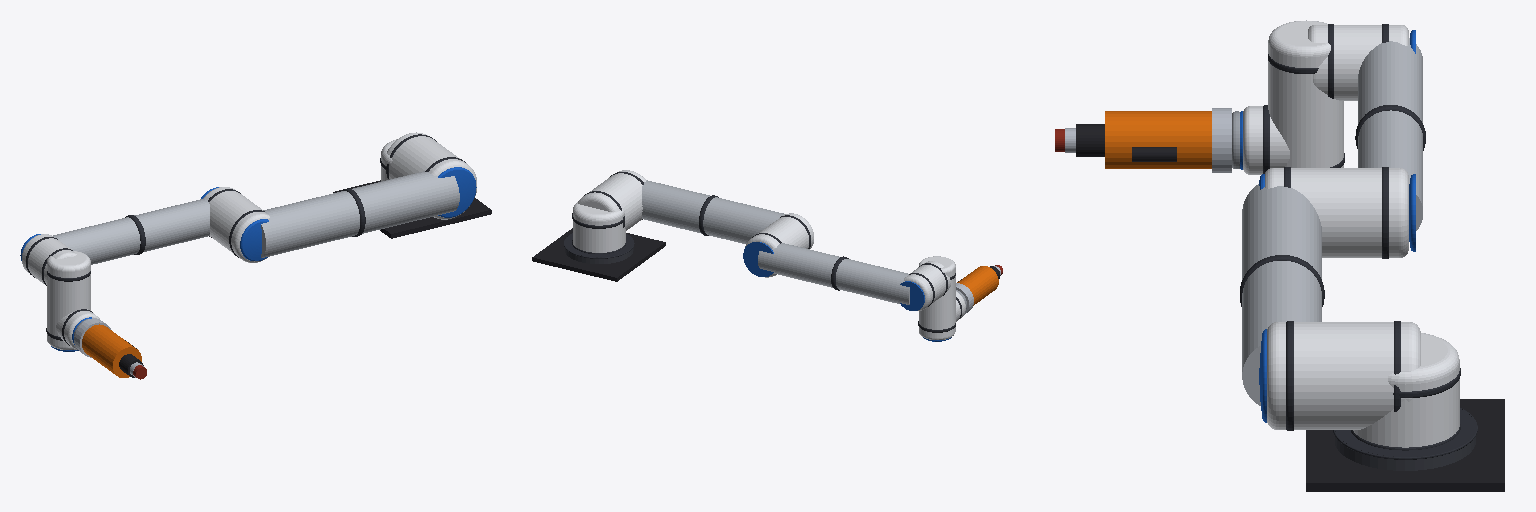
robot.urdf — sixaxis_ur5like:
<?xml version="1.0"?>
<robot name="sixaxis_ur5like">
  <material name="housing"><color rgba="0.86 0.87 0.89 1.0"/></material>
  <material name="tube"><color rgba="0.72 0.74 0.77 1.0"/></material>
  <material name="cap"><color rgba="0.16 0.42 0.78 1.0"/></material>
  <material name="ring"><color rgba="0.22 0.23 0.26 1.0"/></material>
  <material name="base"><color rgba="0.28 0.29 0.32 1.0"/></material>
  <material name="plate"><color rgba="0.18 0.18 0.2 1.0"/></material>
  <material name="flange"><color rgba="0.62 0.64 0.67 1.0"/></material>
  <material name="tcp"><color rgba="0.95 0.55 0.1 1.0"/></material>
  <link name="base_link">
    <inertial><mass value="1"/><inertia ixx="1" iyy="1" izz="1" ixy="0" ixz="0" iyz="0"/></inertial>
    <visual><origin xyz="0.0 0.0 0.005" rpy="0.0 0.0 0.0"/><geometry><box size="0.22 0.22 0.01"/></geometry><material name="plate"/></visual>
    <collision><origin xyz="0.0 0.0 0.005" rpy="0.0 0.0 0.0"/><geometry><box size="0.22 0.22 0.01"/></geometry></collision>
    <visual><origin xyz="0.0 0.0 0.0185" rpy="0.0 0.0 0.0"/><geometry><mesh filename="meshes/housing_L0170_R0780.obj" scale="1 1 1"/></geometry><material name="base"/></visual>
    <collision><origin xyz="0.0 0.0 0.0185" rpy="0.0 0.0 0.0"/><geometry><cylinder length="0.017" radius="0.078"/></geometry></collision>
    <visual><origin xyz="0.0 0.0 0.0255" rpy="0.0 0.0 0.0"/><geometry><mesh filename="meshes/ring_L0030_R0800.obj" scale="1 1 1"/></geometry><material name="ring"/></visual>
  </link>
  <link name="link1">
    <inertial><origin xyz="0.0 0.0 0.0445795" rpy="0.0 0.0 0.0"/><mass value="3.7"/><inertia ixx="0.005781042578308333" iyy="0.005781042578308333" izz="0.00666" ixy="0" ixz="0" iyz="0"/></inertial>
    <visual><origin xyz="0.0 0.0 0.06" rpy="0.0 0.0 0.0"/><geometry><mesh filename="meshes/housing_L1200_R0600.obj" scale="1 1 1"/></geometry><material name="housing"/></visual>
    <collision><origin xyz="0.0 0.0 0.06" rpy="0.0 0.0 0.0"/><geometry><cylinder length="0.12" radius="0.06"/></geometry></collision>
    <visual><origin xyz="0.0 0.0 0.025999999999999995" rpy="0.0 0.0 0.0"/><geometry><mesh filename="meshes/ring_L0100_R0612.obj" scale="1 1 1"/></geometry><material name="ring"/></visual>
    <visual><origin xyz="0.0 0.0 0.094" rpy="0.0 0.0 0.0"/><geometry><mesh filename="meshes/ring_L0100_R0612.obj" scale="1 1 1"/></geometry><material name="ring"/></visual>
  </link>
  <link name="link2">
    <inertial><origin xyz="-0.2125 0.0 0.0" rpy="0.0 -1.5707963267948966 0.0"/><mass value="8.393"/><inertia ixx="0.13267934166666667" iyy="0.13267934166666667" izz="0.012694412500000002" ixy="0" ixz="0" iyz="0"/></inertial>
    <visual><origin xyz="0.0 0.0 0.068" rpy="0.0 0.0 0.0"/><geometry><mesh filename="meshes/housing_L1700_R0600.obj" scale="1 1 1"/></geometry><material name="housing"/></visual>
    <collision><origin xyz="0.0 0.0 0.068" rpy="0.0 0.0 0.0"/><geometry><cylinder length="0.17" radius="0.06"/></geometry></collision>
    <visual><origin xyz="0.0 0.0 0.008999999999999994" rpy="0.0 0.0 0.0"/><geometry><mesh filename="meshes/ring_L0100_R0612.obj" scale="1 1 1"/></geometry><material name="ring"/></visual>
    <visual><origin xyz="0.0 0.0 0.15600000000000003" rpy="0.0 0.0 0.0"/><geometry><mesh filename="meshes/cap_L0100_R0516.obj" scale="1 1 1"/></geometry><material name="cap"/></visual>
    <visual><origin xyz="0.0 0.0 0.127" rpy="0.0 0.0 0.0"/><geometry><mesh filename="meshes/ring_L0100_R0612.obj" scale="1 1 1"/></geometry><material name="ring"/></visual>
    <visual><origin xyz="-0.2125 0.0 0.13585" rpy="0.0 -1.5707963267948966 0.0"/><geometry><mesh filename="meshes/tube_L4250_R0440.obj" scale="1 1 1"/></geometry><material name="tube"/></visual>
    <collision><origin xyz="-0.2125 0.0 0.13585" rpy="0.0 -1.5707963267948966 0.0"/><geometry><cylinder length="0.425" radius="0.044"/></geometry></collision>
    <visual><origin xyz="-0.2125 0.0 0.13585" rpy="-0.0 1.5707963267948966 0.0"/><geometry><mesh filename="meshes/ring_L0120_R0470.obj" scale="1 1 1"/></geometry><material name="ring"/></visual>
  </link>
  <link name="link3">
    <inertial><origin xyz="-0.196125 0.0 0.0" rpy="0.0 -1.5707963267948966 0.0"/><mass value="2.275"/><inertia ixx="0.030321022265624994" iyy="0.030321022265624994" izz="0.0023034375" ixy="0" ixz="0" iyz="0"/></inertial>
    <visual><origin xyz="0.0 0.0 0.076" rpy="0.0 0.0 0.0"/><geometry><mesh filename="meshes/housing_L1600_R0500.obj" scale="1 1 1"/></geometry><material name="housing"/></visual>
    <collision><origin xyz="0.0 0.0 0.076" rpy="0.0 0.0 0.0"/><geometry><cylinder length="0.16" radius="0.05"/></geometry></collision>
    <visual><origin xyz="0.0 0.0 -0.007000000000000006" rpy="0.0 0.0 0.0"/><geometry><mesh filename="meshes/cap_L0100_R0430.obj" scale="1 1 1"/></geometry><material name="cap"/></visual>
    <visual><origin xyz="0.0 0.0 0.021999999999999992" rpy="0.0 0.0 0.0"/><geometry><mesh filename="meshes/ring_L0100_R0510.obj" scale="1 1 1"/></geometry><material name="ring"/></visual>
    <visual><origin xyz="0.0 0.0 0.159" rpy="0.0 0.0 0.0"/><geometry><mesh filename="meshes/cap_L0100_R0430.obj" scale="1 1 1"/></geometry><material name="cap"/></visual>
    <visual><origin xyz="0.0 0.0 0.13" rpy="0.0 0.0 0.0"/><geometry><mesh filename="meshes/ring_L0100_R0510.obj" scale="1 1 1"/></geometry><material name="ring"/></visual>
    <visual><origin xyz="-0.196125 0.0 0.016149999999999998" rpy="0.0 -1.5707963267948966 0.0"/><geometry><mesh filename="meshes/tube_L3922_R0360.obj" scale="1 1 1"/></geometry><material name="tube"/></visual>
    <collision><origin xyz="-0.196125 0.0 0.016149999999999998" rpy="0.0 -1.5707963267948966 0.0"/><geometry><cylinder length="0.39225" radius="0.036"/></geometry></collision>
    <visual><origin xyz="-0.196125 0.0 0.016149999999999998" rpy="-0.0 1.5707963267948966 0.0"/><geometry><mesh filename="meshes/ring_L0120_R0390.obj" scale="1 1 1"/></geometry><material name="ring"/></visual>
  </link>
  <link name="link4">
    <inertial><origin xyz="0.0 0.0 0.054575" rpy="0.0 0.0 0.0"/><mass value="1.219"/><inertia ixx="0.0016978356439583335" iyy="0.0016978356439583335" izz="0.0009752000000000001" ixy="0" ixz="0" iyz="0"/></inertial>
    <visual><origin xyz="0.0 0.0 0.052" rpy="0.0 0.0 0.0"/><geometry><mesh filename="meshes/housing_L1120_R0420.obj" scale="1 1 1"/></geometry><material name="housing"/></visual>
    <collision><origin xyz="0.0 0.0 0.052" rpy="0.0 0.0 0.0"/><geometry><cylinder length="0.112" radius="0.042"/></geometry></collision>
    <visual><origin xyz="0.0 0.0 -0.006999999999999999" rpy="0.0 0.0 0.0"/><geometry><mesh filename="meshes/cap_L0100_R0361.obj" scale="1 1 1"/></geometry><material name="cap"/></visual>
    <visual><origin xyz="0.0 0.0 0.021999999999999995" rpy="0.0 0.0 0.0"/><geometry><mesh filename="meshes/ring_L0100_R0428.obj" scale="1 1 1"/></geometry><material name="ring"/></visual>
    <visual><origin xyz="0.0 0.0 0.082" rpy="0.0 0.0 0.0"/><geometry><mesh filename="meshes/ring_L0100_R0428.obj" scale="1 1 1"/></geometry><material name="ring"/></visual>
  </link>
  <link name="link5">
    <inertial><origin xyz="0.0 0.0 0.047325" rpy="0.0 0.0 0.0"/><mass value="1.219"/><inertia ixx="0.001397646735625" iyy="0.001397646735625" izz="0.0009752000000000001" ixy="0" ixz="0" iyz="0"/></inertial>
    <visual><origin xyz="0.0 0.0 0.0535" rpy="0.0 0.0 0.0"/><geometry><mesh filename="meshes/housing_L1770_R0420.obj" scale="1 1 1"/></geometry><material name="housing"/></visual>
    <collision><origin xyz="0.0 0.0 0.0535" rpy="0.0 0.0 0.0"/><geometry><cylinder length="0.177" radius="0.042"/></geometry></collision>
    <visual><origin xyz="0.0 0.0 -0.009000000000000001" rpy="0.0 0.0 0.0"/><geometry><mesh filename="meshes/ring_L0100_R0428.obj" scale="1 1 1"/></geometry><material name="ring"/></visual>
    <visual><origin xyz="0.0 0.0 0.145" rpy="0.0 0.0 0.0"/><geometry><mesh filename="meshes/cap_L0100_R0361.obj" scale="1 1 1"/></geometry><material name="cap"/></visual>
    <visual><origin xyz="0.0 0.0 0.11599999999999999" rpy="0.0 0.0 0.0"/><geometry><mesh filename="meshes/ring_L0100_R0428.obj" scale="1 1 1"/></geometry><material name="ring"/></visual>
  </link>
  <link name="link6">
    <inertial><origin xyz="0.0 0.0 0.04115" rpy="0.0 0.0 0.0"/><mass value="0.1879"/><inertia ixx="0.00016360280758333335" iyy="0.00016360280758333335" izz="0.00011508875000000002" ixy="0" ixz="0" iyz="0"/></inertial>
    <visual><origin xyz="0.0 0.0 0.0275" rpy="0.0 0.0 0.0"/><geometry><mesh filename="meshes/housing_L0850_R0380.obj" scale="1 1 1"/></geometry><material name="housing"/></visual>
    <collision><origin xyz="0.0 0.0 0.0275" rpy="0.0 0.0 0.0"/><geometry><cylinder length="0.085" radius="0.038"/></geometry></collision>
    <visual><origin xyz="0.0 0.0 0.010999999999999996" rpy="0.0 0.0 0.0"/><geometry><mesh filename="meshes/ring_L0100_R0388.obj" scale="1 1 1"/></geometry><material name="ring"/></visual>
    <visual><origin xyz="0.0 0.0 0.073" rpy="0.0 0.0 0.0"/><geometry><mesh filename="meshes/cap_L0100_R0327.obj" scale="1 1 1"/></geometry><material name="cap"/></visual>
    <visual><origin xyz="0.0 0.0 0.044000000000000004" rpy="0.0 0.0 0.0"/><geometry><mesh filename="meshes/ring_L0100_R0388.obj" scale="1 1 1"/></geometry><material name="ring"/></visual>
    <visual><origin xyz="0.0 0.0 0.07629999999999999" rpy="0.0 0.0 0.0"/><geometry><mesh filename="meshes/ring_L0120_R0320.obj" scale="1 1 1"/></geometry><material name="flange"/></visual>
    <collision><origin xyz="0.0 0.0 0.07629999999999999" rpy="0.0 0.0 0.0"/><geometry><cylinder length="0.012" radius="0.032"/></geometry></collision>
    <visual><origin xyz="0.0 0.0 0.0818" rpy="0.0 0.0 0.0"/><geometry><cylinder length="0.001" radius="0.01"/></geometry><material name="tcp"/></visual>
  </link>
  <link name="flange"><inertial><mass value="1e-06"/><inertia ixx="1e-12" iyy="1e-12" izz="1e-12" ixy="0" ixz="0" iyz="0"/></inertial></link>
  <joint name="joint1" type="revolute"><parent link="base_link"/><child link="link1"/><origin xyz="0.0 0.0 0.0" rpy="0.0 0.0 0.0"/><axis xyz="0 0 1"/><limit lower="-6.283185307179586" upper="6.283185307179586" effort="150.0" velocity="3.141592653589793"/></joint>
  <joint name="joint2" type="revolute"><parent link="link1"/><child link="link2"/><origin xyz="0.0 0.0 0.089159" rpy="1.5707963267948966 0.0 0.0"/><axis xyz="0 0 1"/><limit lower="-6.283185307179586" upper="6.283185307179586" effort="150.0" velocity="3.141592653589793"/></joint>
  <joint name="joint3" type="revolute"><parent link="link2"/><child link="link3"/><origin xyz="-0.425 0.0 0.0" rpy="0.0 0.0 0.0"/><axis xyz="0 0 1"/><limit lower="-6.283185307179586" upper="6.283185307179586" effort="150.0" velocity="3.141592653589793"/></joint>
  <joint name="joint4" type="revolute"><parent link="link3"/><child link="link4"/><origin xyz="-0.39225 0.0 0.0" rpy="0.0 0.0 0.0"/><axis xyz="0 0 1"/><limit lower="-6.283185307179586" upper="6.283185307179586" effort="28.0" velocity="3.141592653589793"/></joint>
  <joint name="joint5" type="revolute"><parent link="link4"/><child link="link5"/><origin xyz="0.0 0.0 0.10915" rpy="1.5707963267948966 0.0 0.0"/><axis xyz="0 0 1"/><limit lower="-6.283185307179586" upper="6.283185307179586" effort="28.0" velocity="3.141592653589793"/></joint>
  <joint name="joint6" type="revolute"><parent link="link5"/><child link="link6"/><origin xyz="0.0 0.0 0.09465" rpy="-1.5707963267948966 0.0 0.0"/><axis xyz="0 0 1"/><limit lower="-6.283185307179586" upper="6.283185307179586" effort="28.0" velocity="3.141592653589793"/></joint>
  <joint name="flange_joint" type="fixed"><parent link="link6"/><child link="flange"/><origin xyz="0.0 0.0 0.0823" rpy="0.0 0.0 0.0"/></joint>
  <material name="pft"><color rgba="0.72 0.74 0.78 1"/></material>
  <material name="pbody"><color rgba="0.85 0.45 0.10 1"/></material>
  <material name="pdark"><color rgba="0.18 0.18 0.20 1"/></material>
  <material name="ppad"><color rgba="0.55 0.20 0.15 1"/></material>
  <link name="polisher"><inertial><mass value="2.2"/><origin xyz="0.0 0.0 0.08"/><inertia ixx="0.006618" iyy="0.006618" izz="8e-4" ixy="0" ixz="0" iyz="0"/></inertial><visual><origin xyz="0.0 0 0.011000"/><geometry><cylinder length="0.022000" radius="0.036"/></geometry><material name="pft"/></visual><collision><origin xyz="0.0 0 0.011000"/><geometry><cylinder length="0.022000" radius="0.036"/></geometry></collision><visual><origin xyz="0.0 0 0.081000"/><geometry><cylinder length="0.118000" radius="0.032"/></geometry><material name="pbody"/></visual><collision><origin xyz="0.0 0 0.081000"/><geometry><cylinder length="0.118000" radius="0.032"/></geometry></collision><visual><origin xyz="0.036 0 0.085000"/><geometry><cylinder length="0.050000" radius="0.008"/></geometry><material name="pdark"/></visual><collision><origin xyz="0.036 0 0.085000"/><geometry><cylinder length="0.050000" radius="0.008"/></geometry></collision><visual><origin xyz="0.0 0 0.156000"/><geometry><cylinder length="0.032000" radius="0.018"/></geometry><material name="pdark"/></visual><collision><origin xyz="0.0 0 0.156000"/><geometry><cylinder length="0.032000" radius="0.018"/></geometry></collision><visual><origin xyz="0.0 0 0.178000"/><geometry><cylinder length="0.012000" radius="0.0135"/></geometry><material name="pft"/></visual><collision><origin xyz="0.0 0 0.178000"/><geometry><cylinder length="0.012000" radius="0.0135"/></geometry></collision><visual><origin xyz="0.0 0 0.189500"/><geometry><cylinder length="0.011000" radius="0.0125"/></geometry><material name="ppad"/></visual></link>
  <link name="tcp"><inertial><mass value="1e-6"/><inertia ixx="1e-12" iyy="1e-12" izz="1e-12" ixy="0" ixz="0" iyz="0"/></inertial></link>
  <joint name="pol_mount" type="fixed"><parent link="flange"/><child link="polisher"/></joint>
  <joint name="tcp_joint" type="fixed"><parent link="polisher"/><child link="tcp"/><origin xyz="0 0 0.195000000"/></joint>
</robot>

--- Facts derived from the render (not from the file) ---
The picture shows the robot from 3 angles, left to right: view 1: azimuth 30°, elevation 25°; view 2: azimuth 150°, elevation 25°; view 3: azimuth 270°, elevation 25°; orthographic projection.
Model sixaxis_ur5like with 10 links and 9 joints (6 revolute, 3 fixed), rooted at base_link, posed all joints at 0.
Visible links, largest first — view 1: link2, link3, link5, polisher, link4, base_link, link6; view 2: link2, link3, base_link, link1, link5, link4, polisher; view 3: link2, link3, base_link, polisher, link5, link1, link4, link6.
Link boxes in pixels (x1,y1,x2,y2): link2: (261, 132, 476, 257); link3: (53, 187, 269, 264); link5: (46, 251, 90, 351); polisher: (74, 318, 146, 379); link4: (20, 234, 76, 285); base_link: (333, 180, 491, 238); link6: (56, 309, 99, 349); link2: (578, 170, 784, 243); link3: (743, 213, 909, 304); base_link: (532, 228, 665, 281); link1: (572, 202, 625, 253); link5: (918, 256, 955, 341); link4: (900, 261, 950, 310); polisher: (956, 265, 1002, 314); link2: (1240, 184, 1420, 430); link3: (1259, 38, 1425, 258); base_link: (1306, 399, 1504, 491); polisher: (1055, 108, 1231, 172); link5: (1268, 20, 1344, 167); link1: (1351, 333, 1460, 450); link4: (1308, 24, 1415, 100); link6: (1232, 105, 1289, 174).
Bounding box of the posed robot: 0.9701 × 0.4965 × 0.2112 m (x, y, z).
31 mesh visuals loaded from 21 distinct referenced files (21 OBJ).
